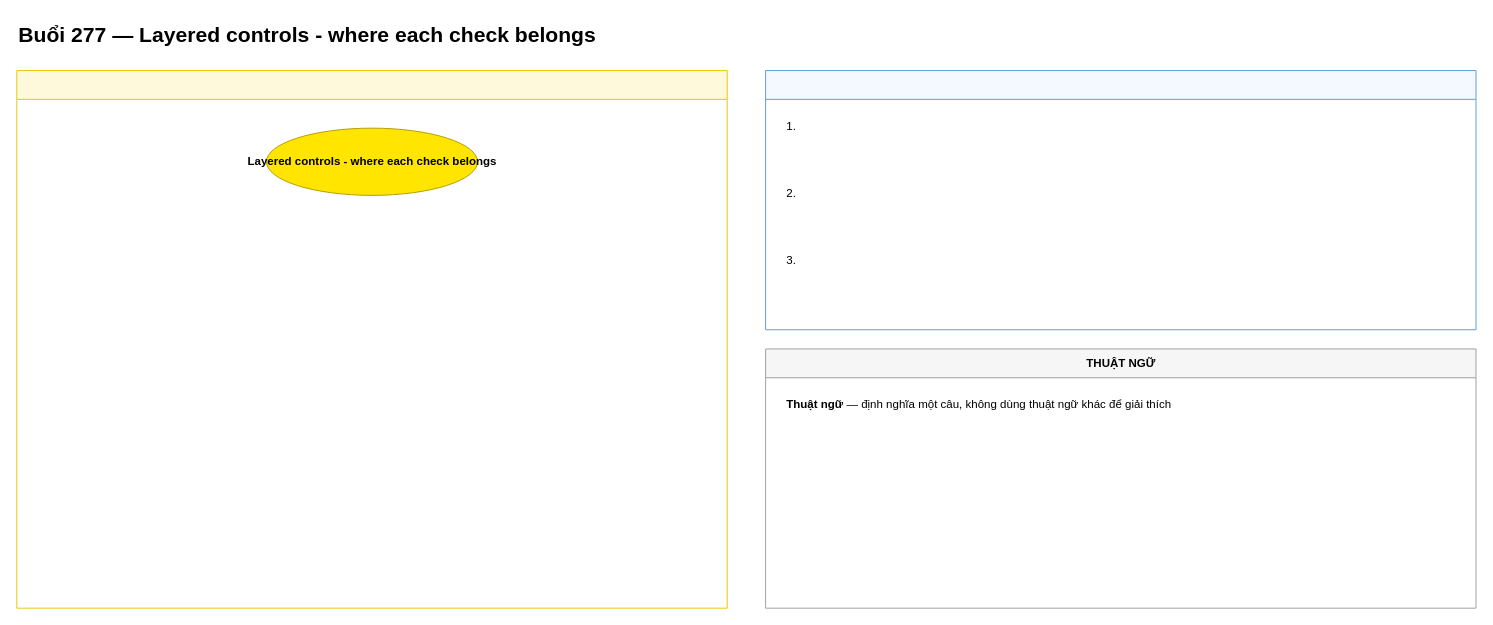
Some shapes in this 1493 by 625 pixel diagram are drawn without their labels. Each missing label, with the box of its shape:
KEY TAKEAWAY — ba điều phải nhớ: (765, 70, 1476, 330)
MINDMAP: (16, 70, 727, 608)
